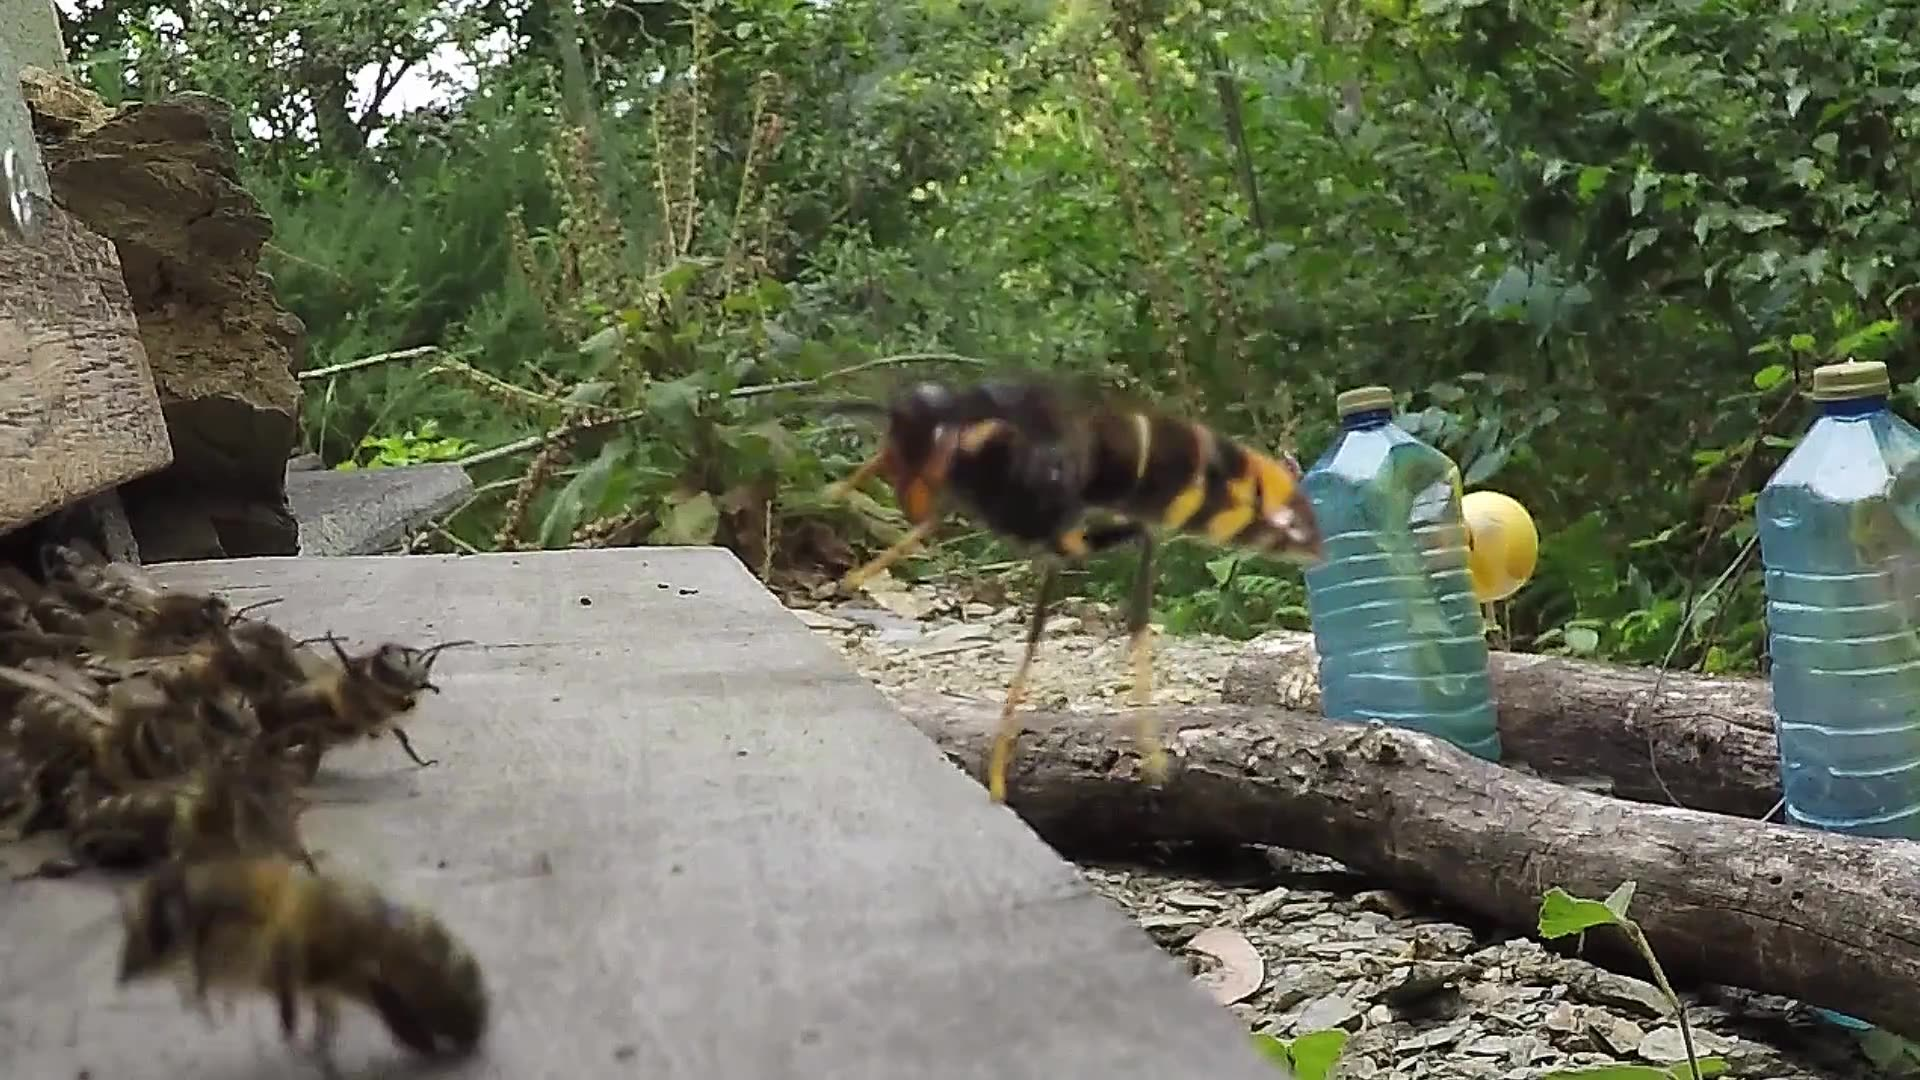bee: (1, 543, 331, 870), (105, 810, 475, 1058), (290, 641, 425, 750)
hornet: (873, 344, 1344, 585)
